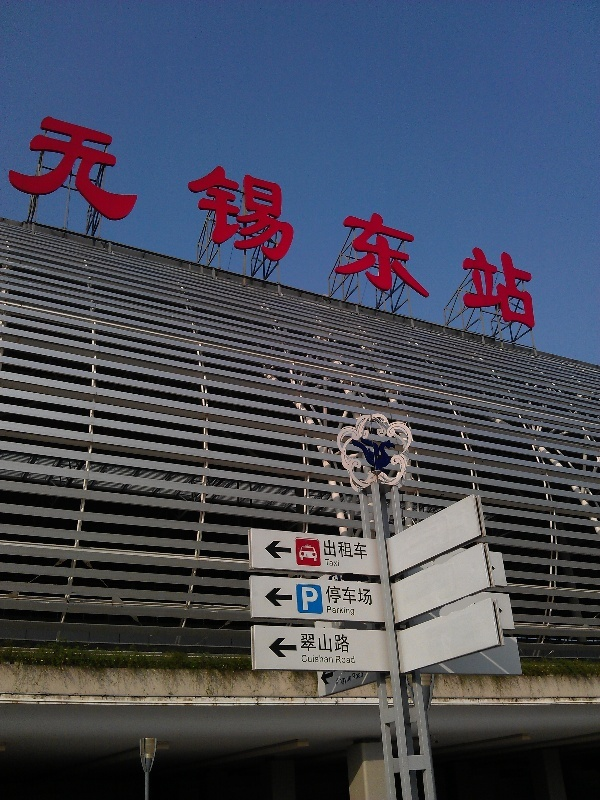text: (33, 106, 48, 333), (49, 106, 64, 333), (65, 106, 80, 333), (81, 106, 96, 333), (97, 106, 112, 333), (113, 106, 128, 333), (129, 106, 144, 333), (145, 106, 160, 333), (161, 106, 176, 333), (177, 106, 192, 333), (193, 106, 208, 333), (209, 106, 224, 333), (225, 106, 240, 333), (241, 106, 256, 333), (257, 106, 272, 333), (273, 106, 288, 333), (289, 106, 304, 333), (305, 106, 320, 333), (321, 106, 336, 333), (337, 106, 352, 333), (353, 106, 368, 333), (369, 106, 384, 333), (385, 106, 400, 333), (401, 106, 416, 333), (417, 106, 432, 333), (433, 106, 448, 333), (449, 106, 464, 333), (465, 106, 480, 333), (481, 106, 496, 333), (497, 106, 512, 333), (513, 106, 528, 333), (529, 106, 541, 333), (24, 106, 32, 333), (305, 587, 320, 612), (353, 539, 369, 560), (337, 585, 352, 607), (353, 585, 368, 607), (337, 539, 352, 560), (305, 632, 320, 653), (321, 632, 336, 653), (337, 632, 351, 653), (323, 539, 336, 560), (325, 585, 336, 607), (337, 674, 353, 688), (337, 606, 352, 617), (305, 655, 320, 664), (337, 656, 352, 664), (353, 671, 365, 681), (321, 655, 334, 664), (327, 606, 336, 617), (369, 585, 373, 607), (325, 559, 336, 567), (300, 632, 304, 653), (302, 587, 304, 612), (301, 655, 304, 664), (337, 559, 340, 567), (353, 656, 356, 664), (353, 606, 355, 617), (351, 671, 352, 681)
